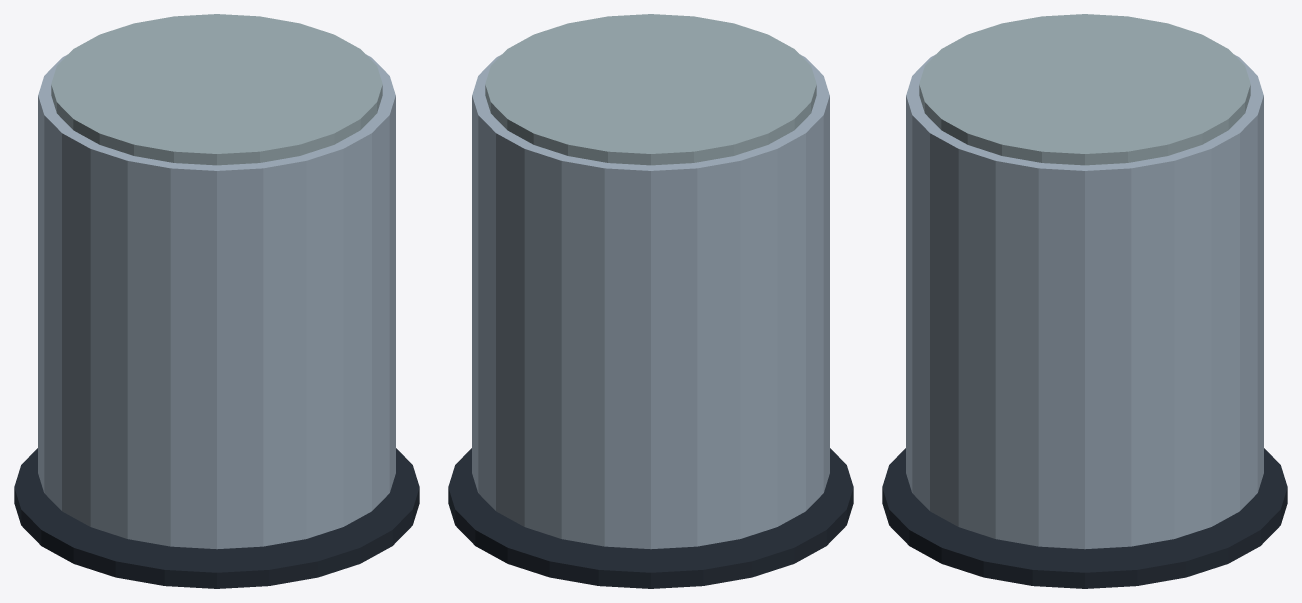
File: 29_L97_C1_Capacitor.fbx
3 views of the same model, side by side, from view 1: azimuth 30°, elevation 25°; view 2: azimuth 150°, elevation 25°; view 3: azimuth 270°, elevation 25° (orthographic).
Visible parts, largest first — view 1: C1_aluminum_can, C1_cap_top, C1_base; view 2: C1_aluminum_can, C1_cap_top, C1_base; view 3: C1_aluminum_can, C1_cap_top, C1_base.
Part boxes in pixels (bbox=[...]): C1_aluminum_can: bbox=[38, 54, 395, 549]; C1_cap_top: bbox=[51, 14, 382, 165]; C1_base: bbox=[14, 448, 419, 588]; C1_aluminum_can: bbox=[472, 54, 829, 549]; C1_cap_top: bbox=[485, 14, 816, 165]; C1_base: bbox=[448, 448, 853, 588]; C1_aluminum_can: bbox=[906, 54, 1263, 549]; C1_cap_top: bbox=[919, 14, 1250, 165]; C1_base: bbox=[882, 448, 1287, 588].
Size of the model in its own units: 0.0068 by 0.00776 by 0.0068.
